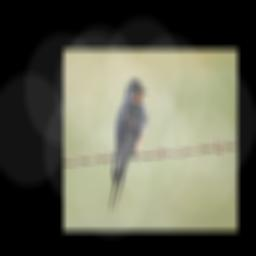Swallow: (108, 78, 149, 211)
